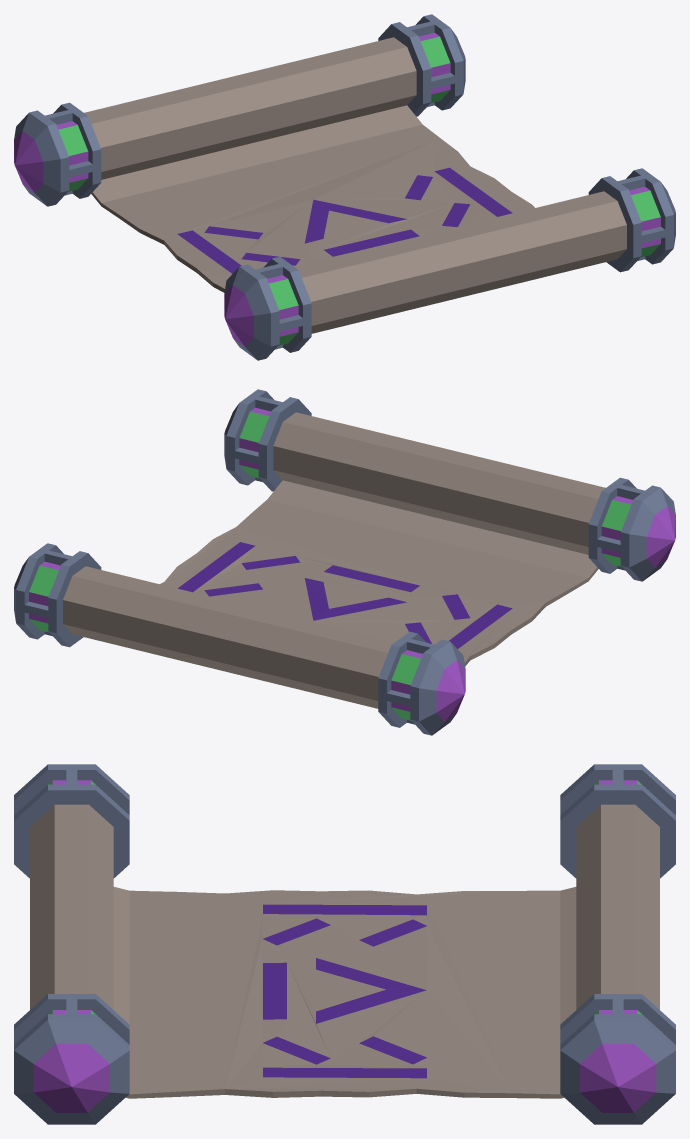
The model's file is spell-scroll-29d32d.glb.
3 renders of one model, top to bottom at view 1: azimuth 30°, elevation 25°; view 2: azimuth 150°, elevation 25°; view 3: azimuth 270°, elevation 25°, orthographic. The views are drawn at different scales.
Parts seen in each view (by area): view 1: scroll-matte, scroll-metal, scroll-crystal; view 2: scroll-matte, scroll-metal, scroll-crystal; view 3: scroll-matte, scroll-metal, scroll-crystal.
Boxes of the visible parts, box(x1,y1,x2,y2) form: scroll-matte: box(84, 37, 626, 333); scroll-metal: box(14, 14, 675, 360); scroll-crystal: box(14, 32, 675, 346); scroll-matte: box(63, 412, 605, 708); scroll-metal: box(14, 389, 675, 735); scroll-crystal: box(14, 407, 675, 721); scroll-matte: box(30, 804, 659, 1098); scroll-metal: box(14, 764, 675, 1124); scroll-crystal: box(27, 780, 662, 1112).
Size of the model in its own units: 0.42 by 0.072 by 0.412.
